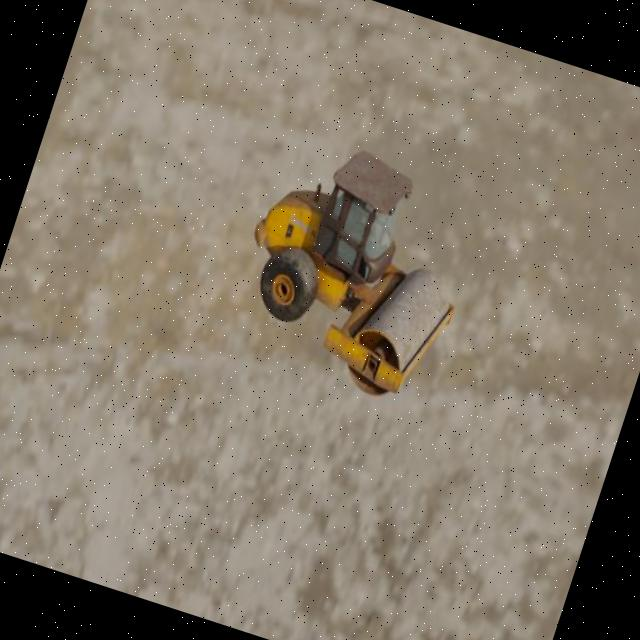Roller: (217, 125, 492, 412)
